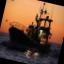fishing boat: (2, 0, 61, 58)
